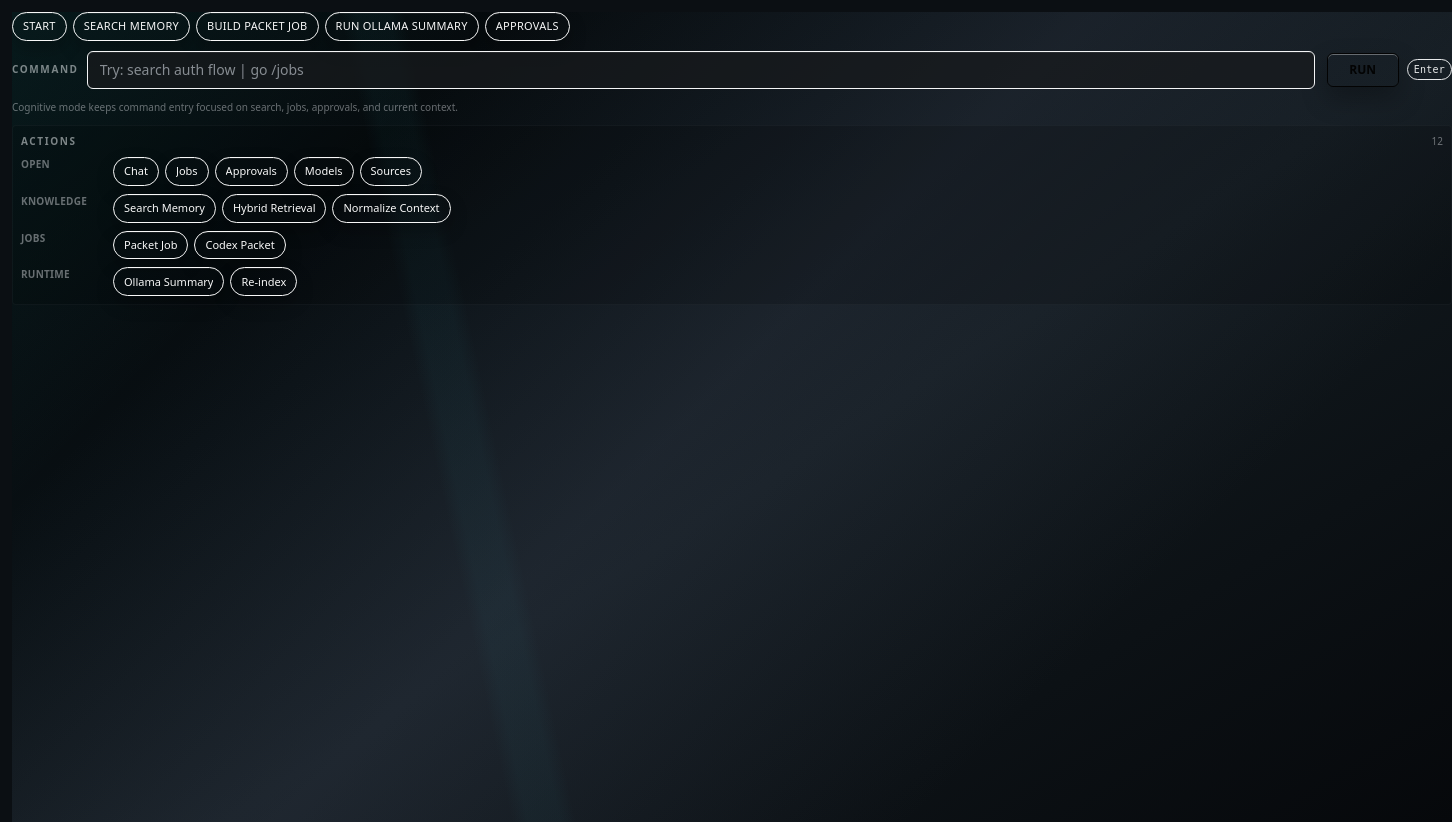
CommandBar › stages visible command actions into the command input
This screenshot has width=1452, height=822.
Click the button with aria-label "Use command Jobs": (187, 171) top-left (165, 157), bottom-right (209, 186)
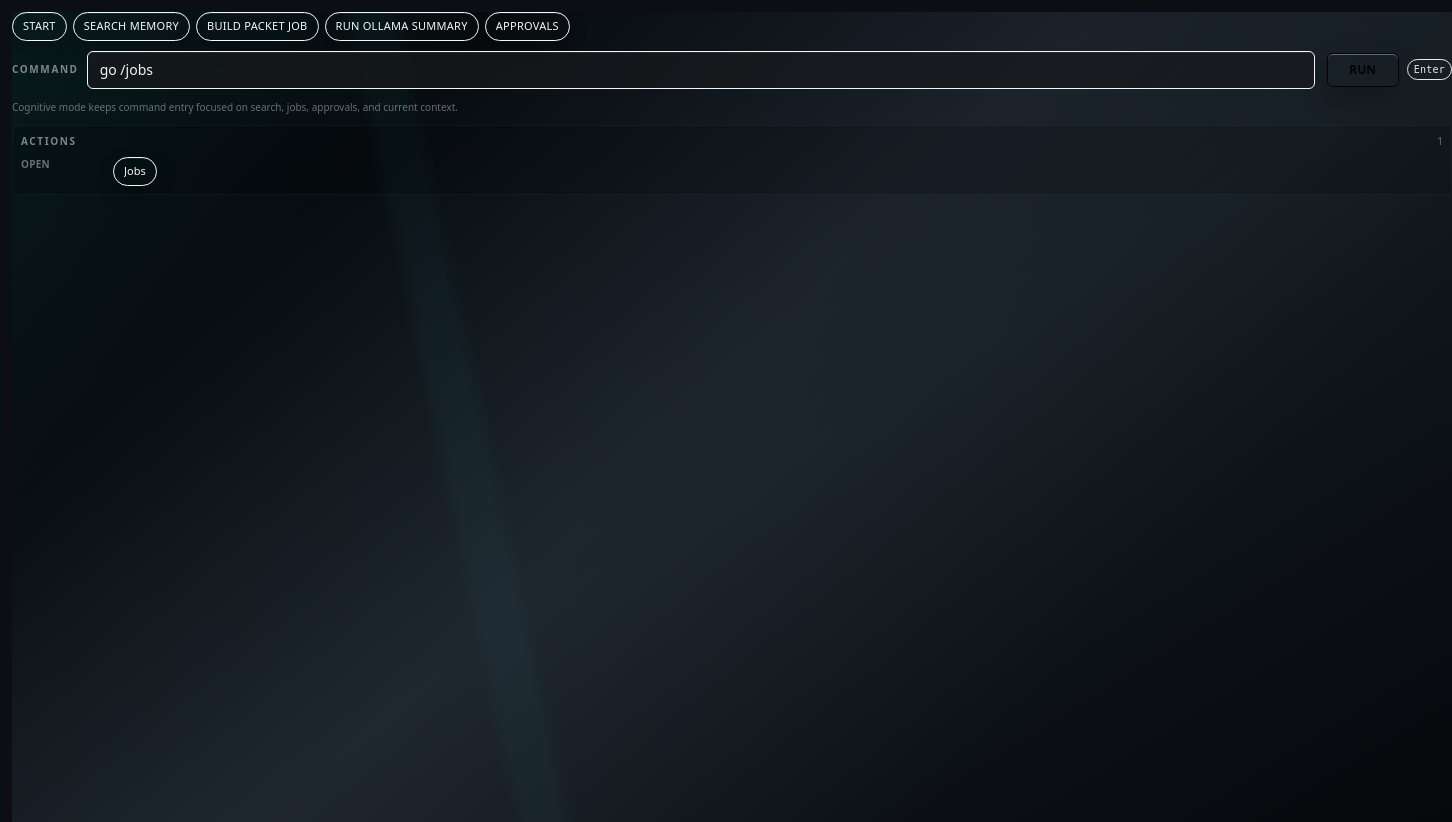
Expected: the text "Actions" is shown, top-left (21, 134), bottom-right (77, 149)
Result: the field named "Command input" holds "go /jobs" at top-left (87, 51), bottom-right (1315, 89)
